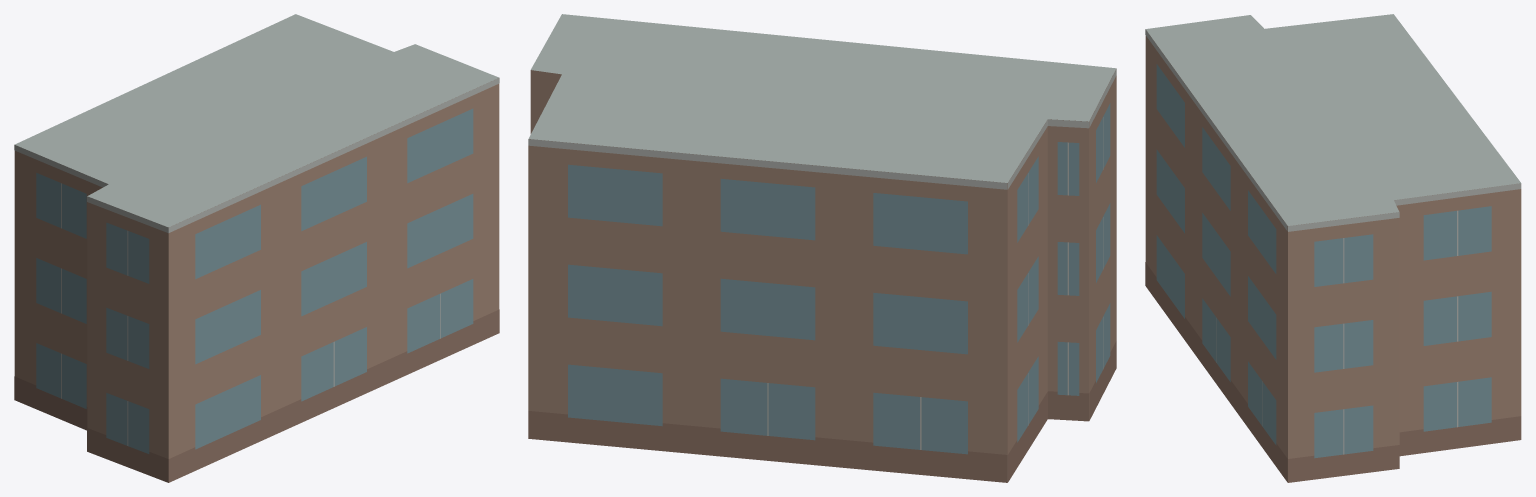
The model's file is survey-upis-32890829.glb.
3 renders of one model, left to right at view 1: azimuth 30°, elevation 25°; view 2: azimuth 150°, elevation 25°; view 3: azimuth 270°, elevation 25°, orthographic. The views are drawn at different scales.
Parts seen in each view (by area): view 1: survey-upis-32890829.tmp; view 2: survey-upis-32890829.tmp; view 3: survey-upis-32890829.tmp.
Part boxes in pixels (x1=…): survey-upis-32890829.tmp: x1=14, y1=14, x2=499, y2=482; survey-upis-32890829.tmp: x1=528, y1=14, x2=1116, y2=482; survey-upis-32890829.tmp: x1=1145, y1=14, x2=1521, y2=482.
Size of the model in its own units: 19.14 by 10.8 by 14.34.
